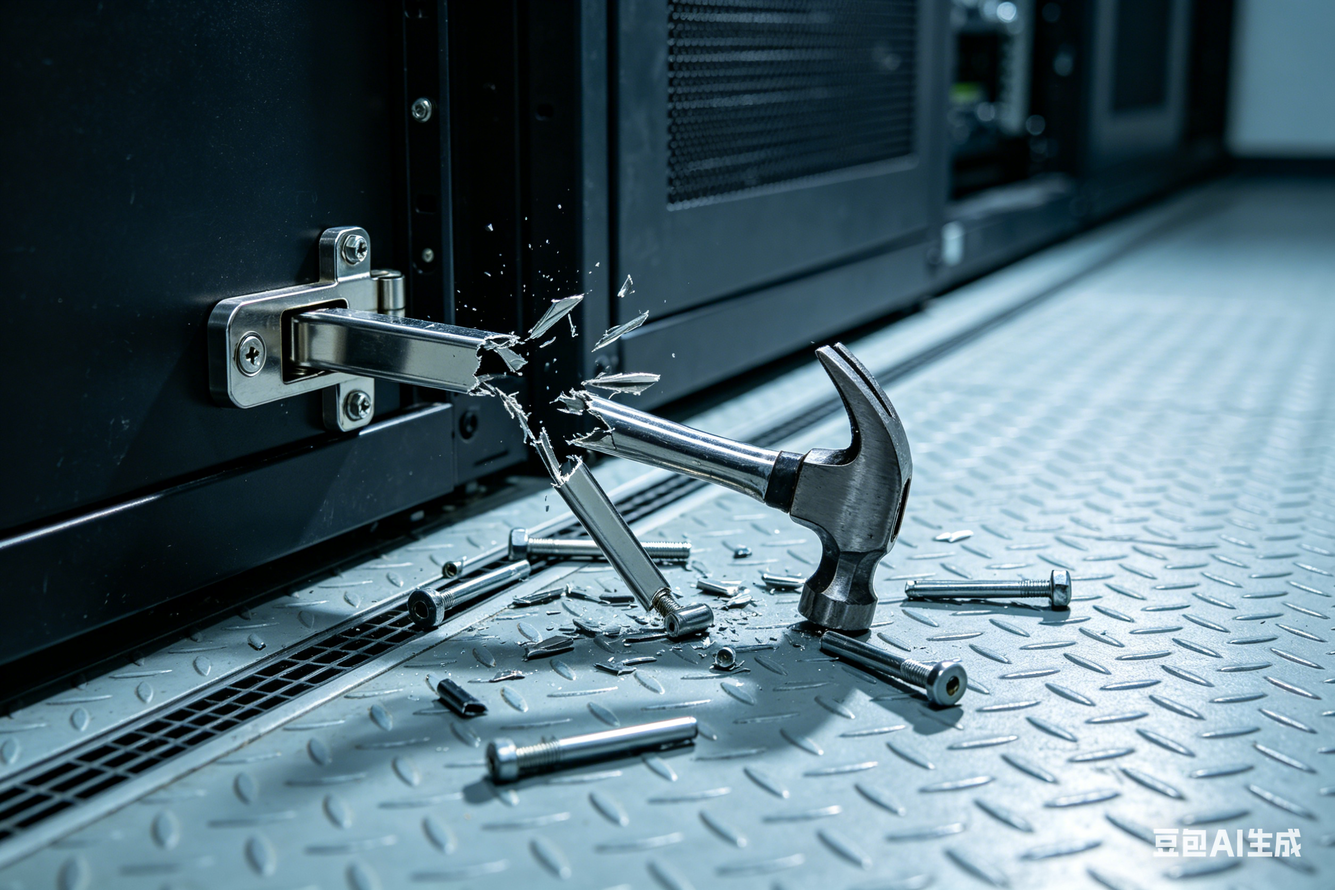BadLock: (447, 321, 639, 503)
